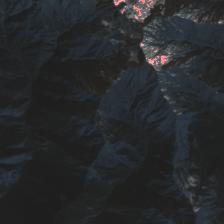landslides: (84, 0, 96, 14), (98, 110, 116, 119)
